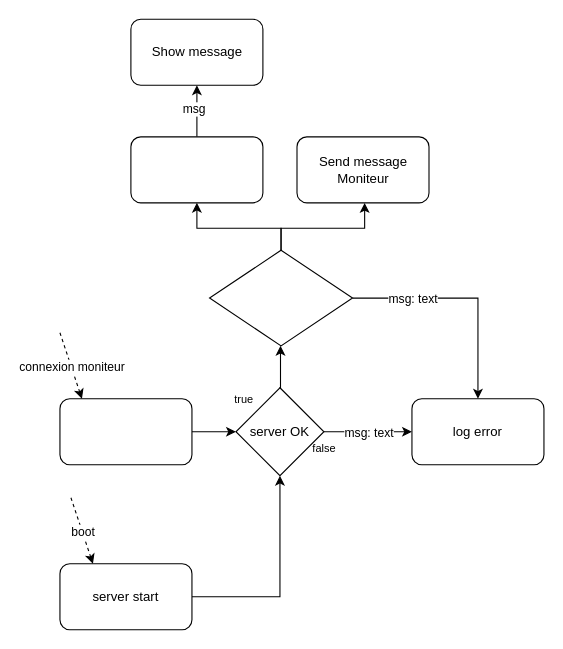
Some shapes in this 563 by 649 pixel diagram are drawn without their labels. The centre of each missing label's shape, as x and y in pixels:
Loss of communication?: point 280,297
Reception message Moniteur: point 196,169
socket start: point 125,431
